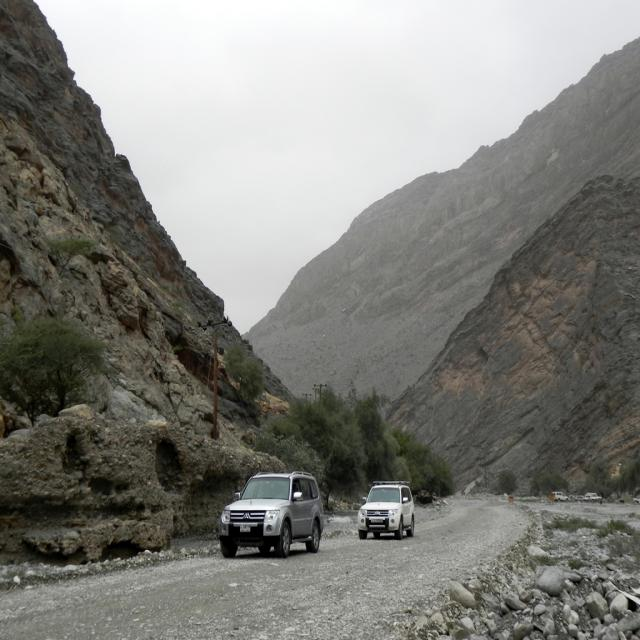car: (218, 471, 324, 557), (357, 480, 413, 539)
